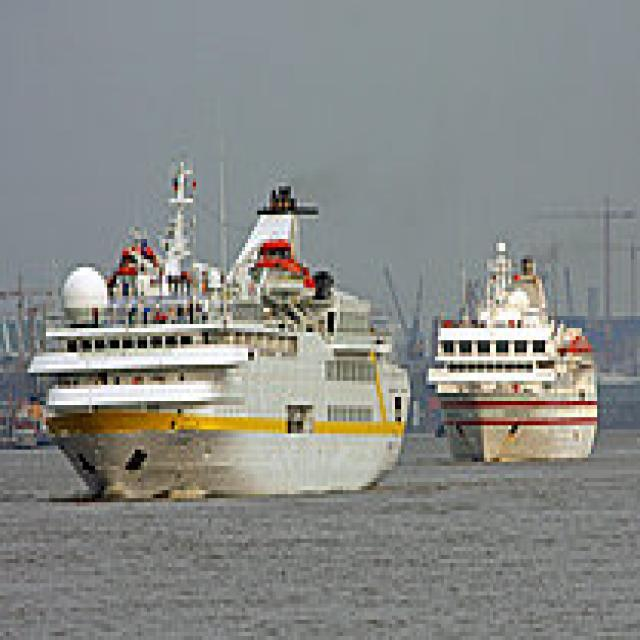Ship: (41, 147, 418, 503), (427, 228, 617, 471)
